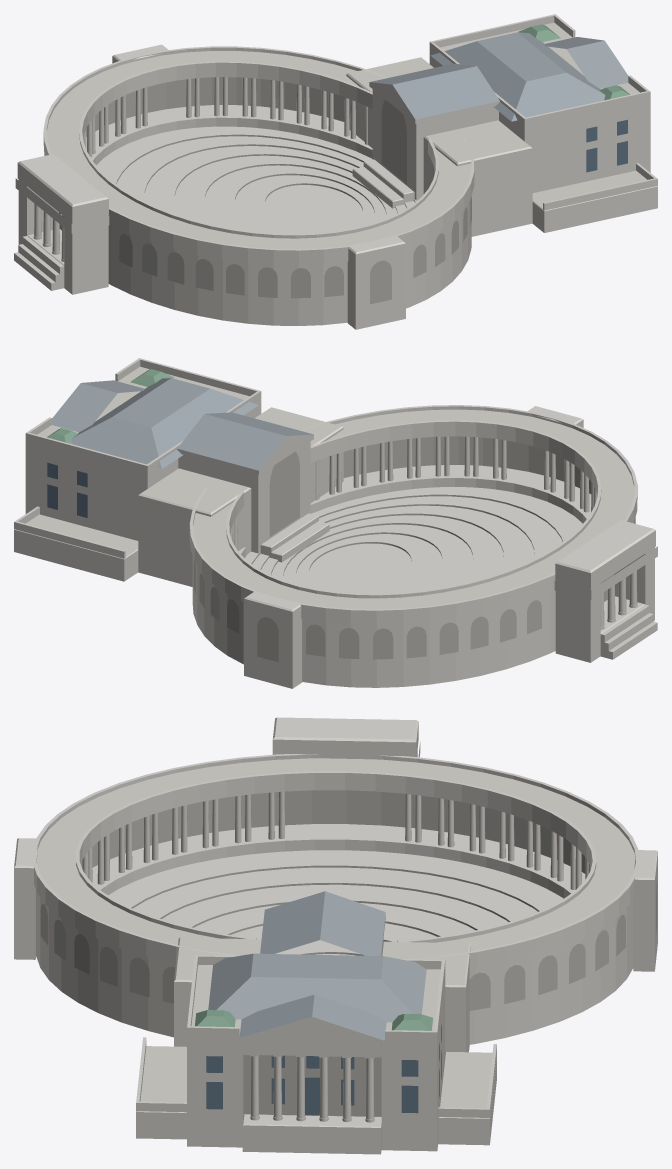
The model's file is detail.glb.
The picture shows the model from 3 angles, top to bottom: view 1: azimuth 30°, elevation 25°; view 2: azimuth 150°, elevation 25°; view 3: azimuth 270°, elevation 25°; orthographic projection. The views are drawn at different scales.
Parts seen in each view (by area): view 1: memorial-amphitheater; view 2: memorial-amphitheater; view 3: memorial-amphitheater.
Part boxes in pixels (box(x1,y1,x2,y2)): memorial-amphitheater: box(14, 14, 657, 329); memorial-amphitheater: box(14, 358, 657, 688); memorial-amphitheater: box(14, 717, 657, 1154).
Size of the model in its own units: 95.05 by 18 by 77.09.
